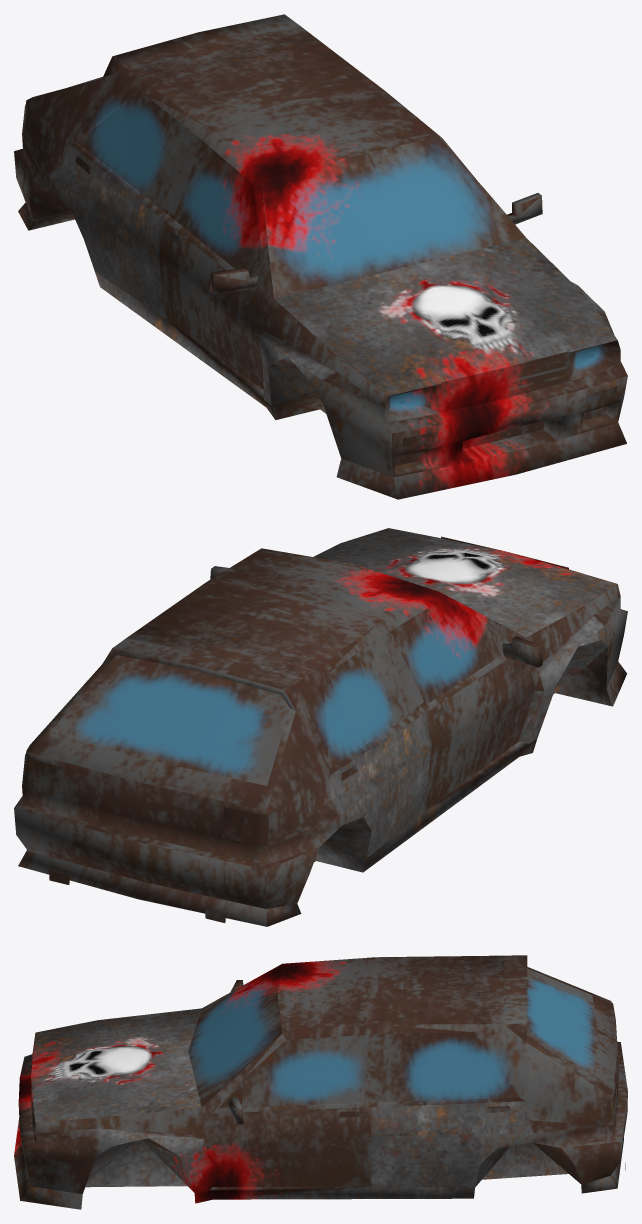
The model's file is Zombie car 2.FBX.
The picture shows the model from 3 angles, top to bottom: view 1: azimuth 30°, elevation 25°; view 2: azimuth 150°, elevation 25°; view 3: azimuth 270°, elevation 25°; orthographic projection. The views are drawn at different scales.
Visible parts, largest first — view 1: Bod Car 2; view 2: Bod Car 2; view 3: Bod Car 2.
Boxes of the visible parts, x1,y1,x2,y2 form: Bod Car 2: (14, 14, 627, 499); Bod Car 2: (14, 528, 627, 926); Bod Car 2: (14, 955, 627, 1209).
Bounding box in the file's own units: 1445 × 878 × 2890.
Materials: 1 (1 with a texture image).
